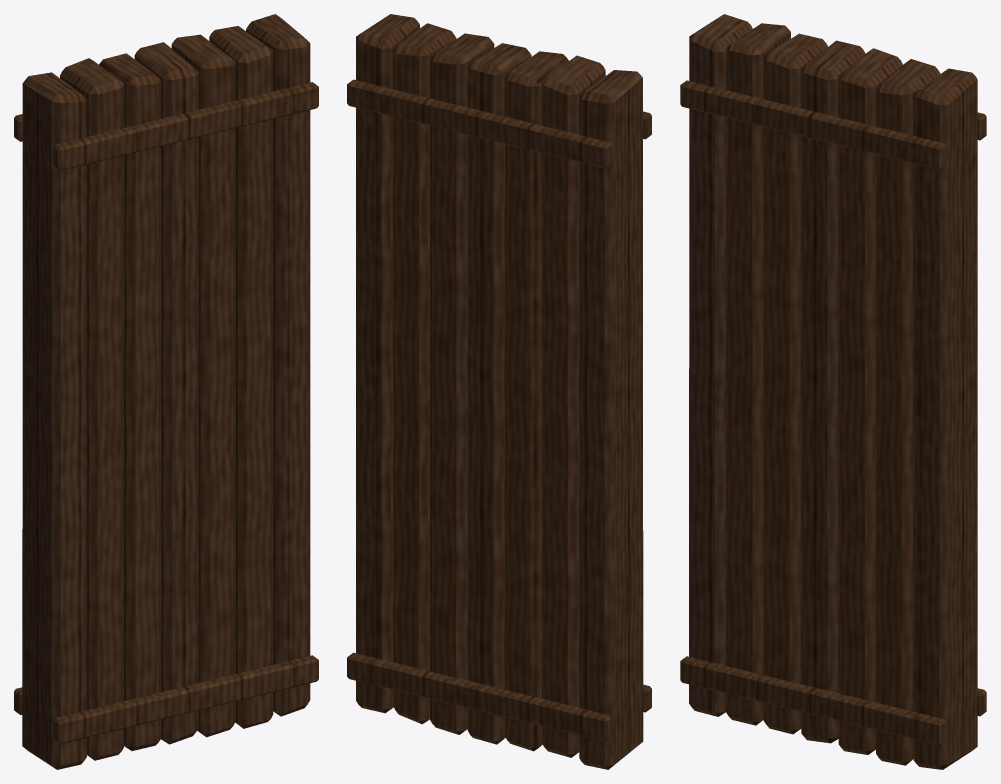
The model's file is wall_wood_a.glb.
3 views of the same model, side by side, from view 1: azimuth 30°, elevation 25°; view 2: azimuth 150°, elevation 25°; view 3: azimuth 330°, elevation 25° (orthographic).
Visible parts, largest first — view 1: wall_wood_a; view 2: wall_wood_a; view 3: wall_wood_a.
Part boxes in pixels (x1=…): wall_wood_a: x1=14, y1=14, x2=318, y2=769; wall_wood_a: x1=347, y1=14, x2=651, y2=769; wall_wood_a: x1=680, y1=14, x2=986, y2=769.
Size of the model in its own units: 1 by 2.49 by 0.309.
1 material, 1 textured.
